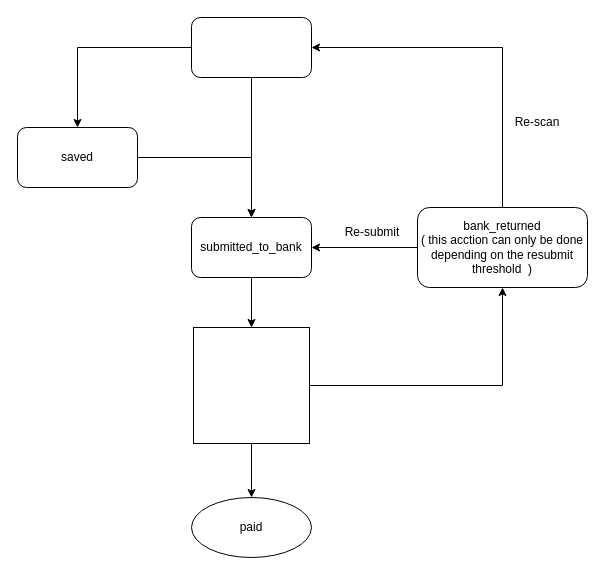
The diagram is 605 pixels wide and 575 high, and some of its shapes have lost their labels. Each missing label, with the box of its shape:
cheque reaches ICCS: (192, 326, 310, 444)
new: (190, 16, 312, 78)
